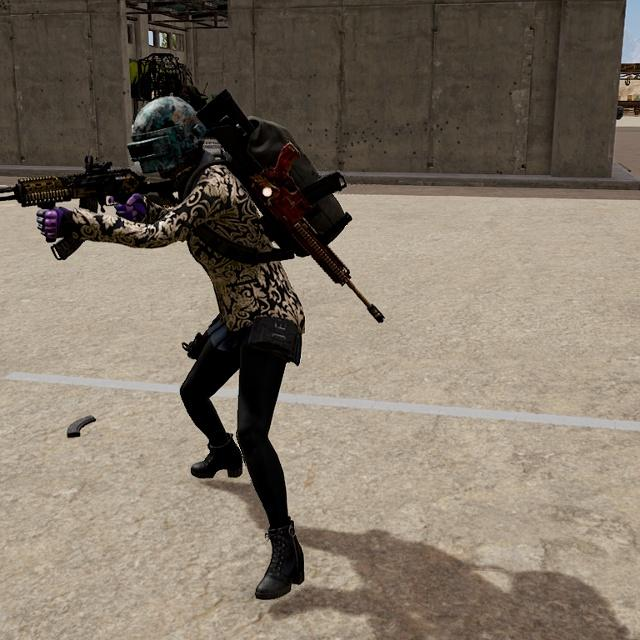head: (114, 93, 223, 195)
people: (89, 90, 339, 613)
